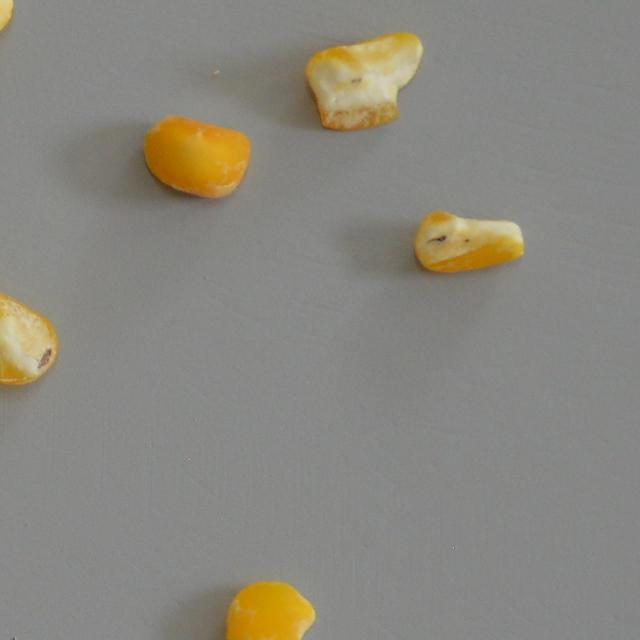dañado: (413, 210, 524, 274), (0, 280, 60, 386)
pelicula: (137, 113, 250, 200), (224, 579, 316, 640)
punto_negro: (305, 30, 423, 130)
